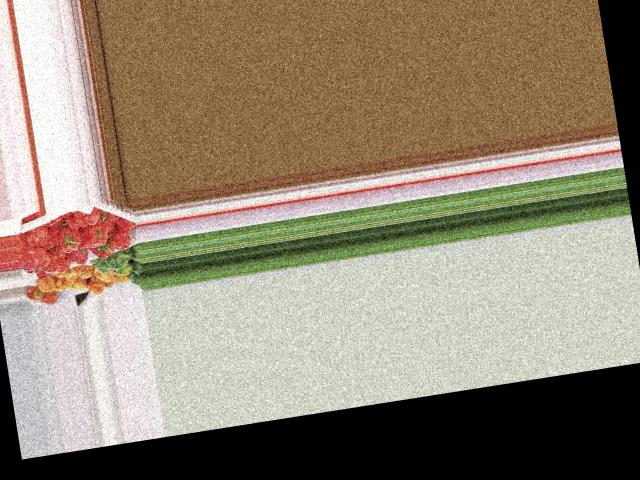bell_pepper: (63, 205, 101, 230)
